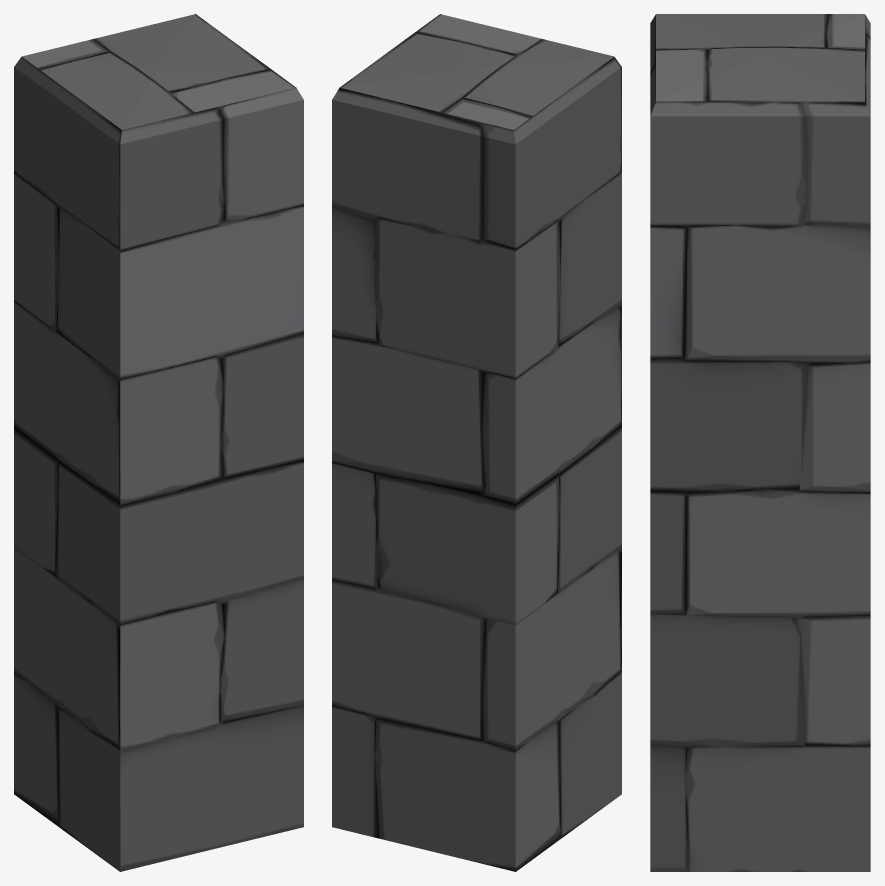
File: SM_Bld_Base_Pillar_Half_01.fbx
3 views of the same model, side by side, from view 1: azimuth 30°, elevation 25°; view 2: azimuth 150°, elevation 25°; view 3: azimuth 270°, elevation 25° (orthographic). The views are drawn at different scales.
Parts seen in each view (by area): view 1: SM_Bld_Base_Pillar_Half_01; view 2: SM_Bld_Base_Pillar_Half_01; view 3: SM_Bld_Base_Pillar_Half_01.
Part boxes in pixels (left/top/right/bottom): SM_Bld_Base_Pillar_Half_01: left=14, top=14, right=303, bottom=871; SM_Bld_Base_Pillar_Half_01: left=332, top=14, right=621, bottom=871; SM_Bld_Base_Pillar_Half_01: left=650, top=14, right=870, bottom=871.
Bounding box in the file's own units: 39.12 × 151 × 39.12.
